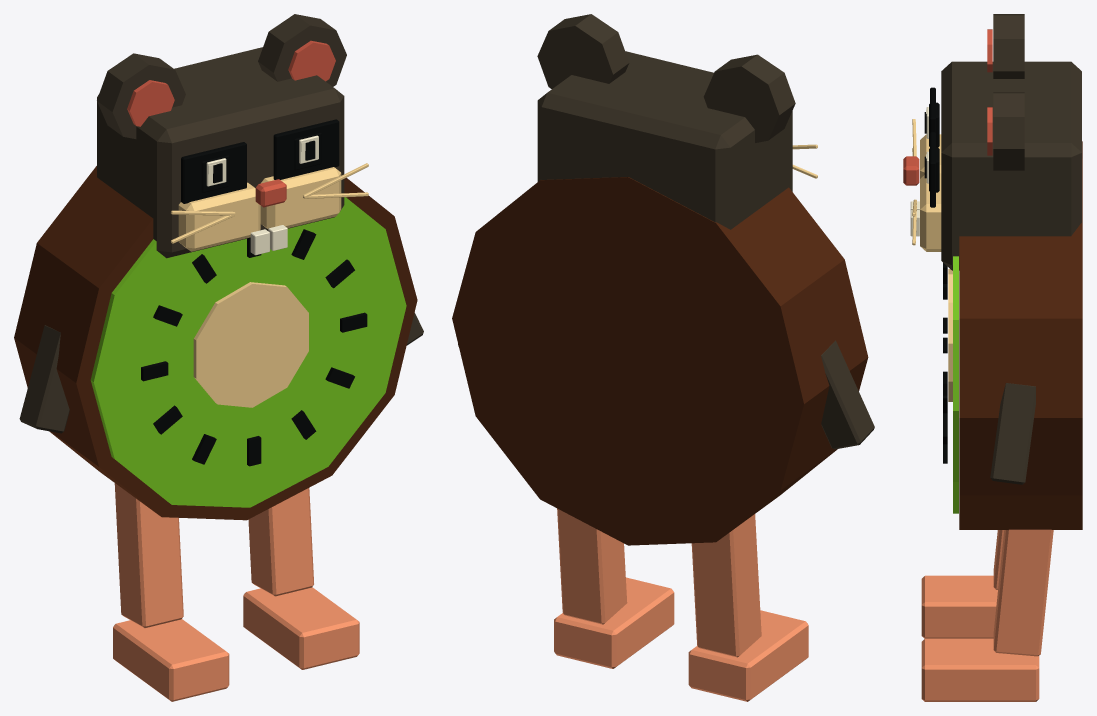
The model's file is PipiKiwi.glb.
The picture shows the model from 3 angles, left to right: view 1: azimuth 30°, elevation 25°; view 2: azimuth 150°, elevation 25°; view 3: azimuth 270°, elevation 25°; orthographic projection. The views are drawn at different scales.
Visible parts, largest first — view 1: PipiKiwi; view 2: PipiKiwi; view 3: PipiKiwi.
Boxes of the visible parts, bbox=[...] form: PipiKiwi: bbox=[14, 14, 423, 701]; PipiKiwi: bbox=[452, 14, 874, 701]; PipiKiwi: bbox=[903, 14, 1082, 701].
Size of the model in its own units: 3.36 by 5 by 1.35.
1 material, 1 textured.
